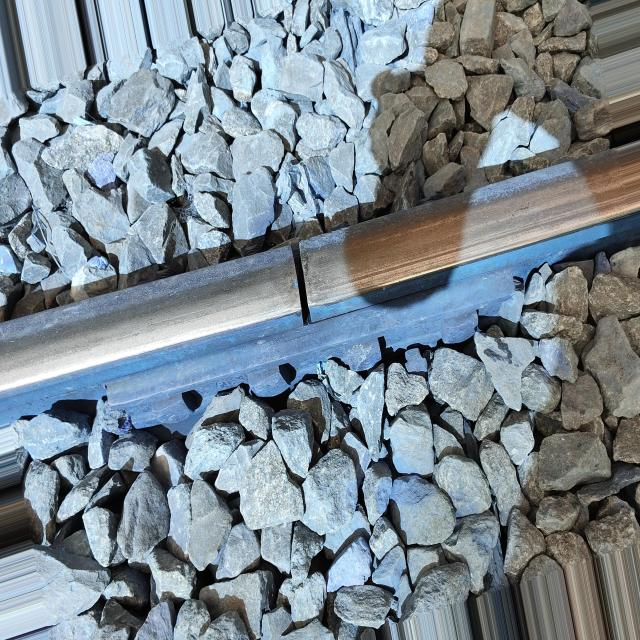crack: (283, 216, 326, 342)
